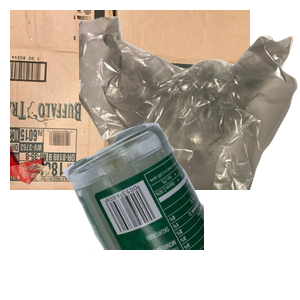cardboard: (10, 10, 250, 190)
glass: (60, 120, 300, 300)
plastic: (98, 176, 266, 300)
trash: (79, 14, 300, 194)
